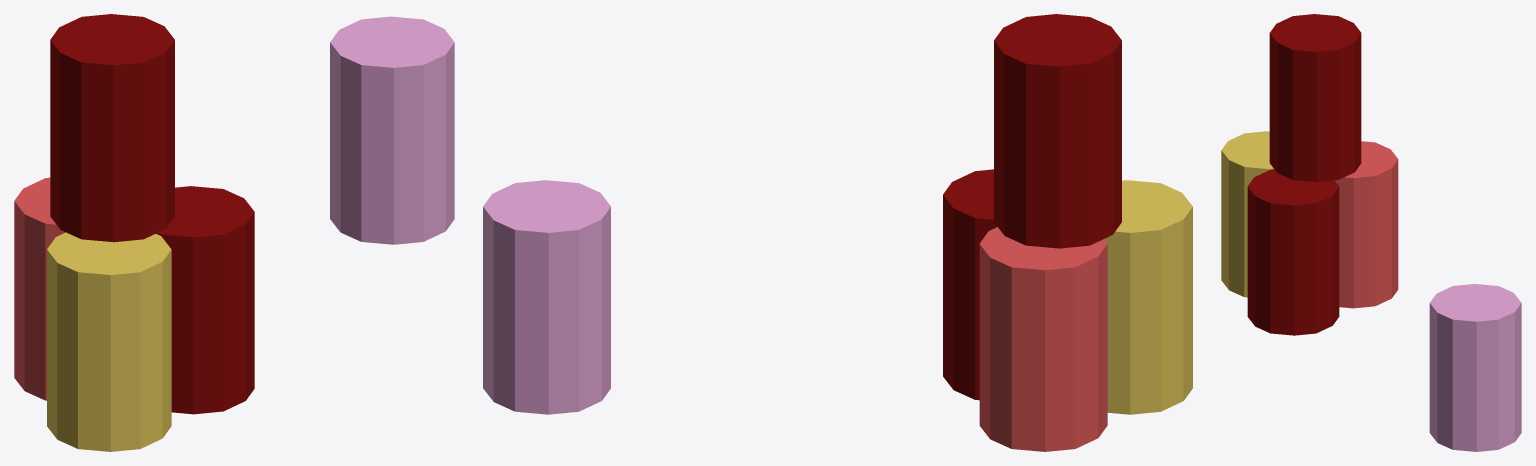
3 renders of one model, left to right at view 1: azimuth 30°, elevation 25°; view 2: azimuth 150°, elevation 25°; view 3: azimuth 270°, elevation 25°, orthographic. The views are drawn at different scales.
Parts seen in each view (by area): view 1: Group_002, Group_001, Group_004, Group_003, Group_005; view 2: Group_001, Group_002, Group_005, Group_004, Group_003; view 3: Group_002, Group_001, Group_003, Group_005, Group_004.
Boxes of the visible parts, box(x1,y1,x2,y2) form: Group_002: box(50, 14, 174, 242); Group_001: box(330, 16, 454, 244); Group_004: box(47, 232, 171, 451); Group_003: box(156, 186, 254, 414); Group_005: box(14, 177, 65, 400); Group_001: box(483, 180, 610, 414); Group_002: box(994, 14, 1121, 248); Group_005: box(979, 227, 1107, 451); Group_004: box(1104, 180, 1192, 414); Group_003: box(943, 169, 997, 400); Group_002: box(1269, 14, 1361, 181); Group_001: box(1429, 284, 1521, 451); Group_003: box(1247, 169, 1339, 335); Group_005: box(1335, 141, 1398, 308); Group_004: box(1221, 131, 1273, 297).
Bounding box in the file's own units: 162 × 104 × 108.
